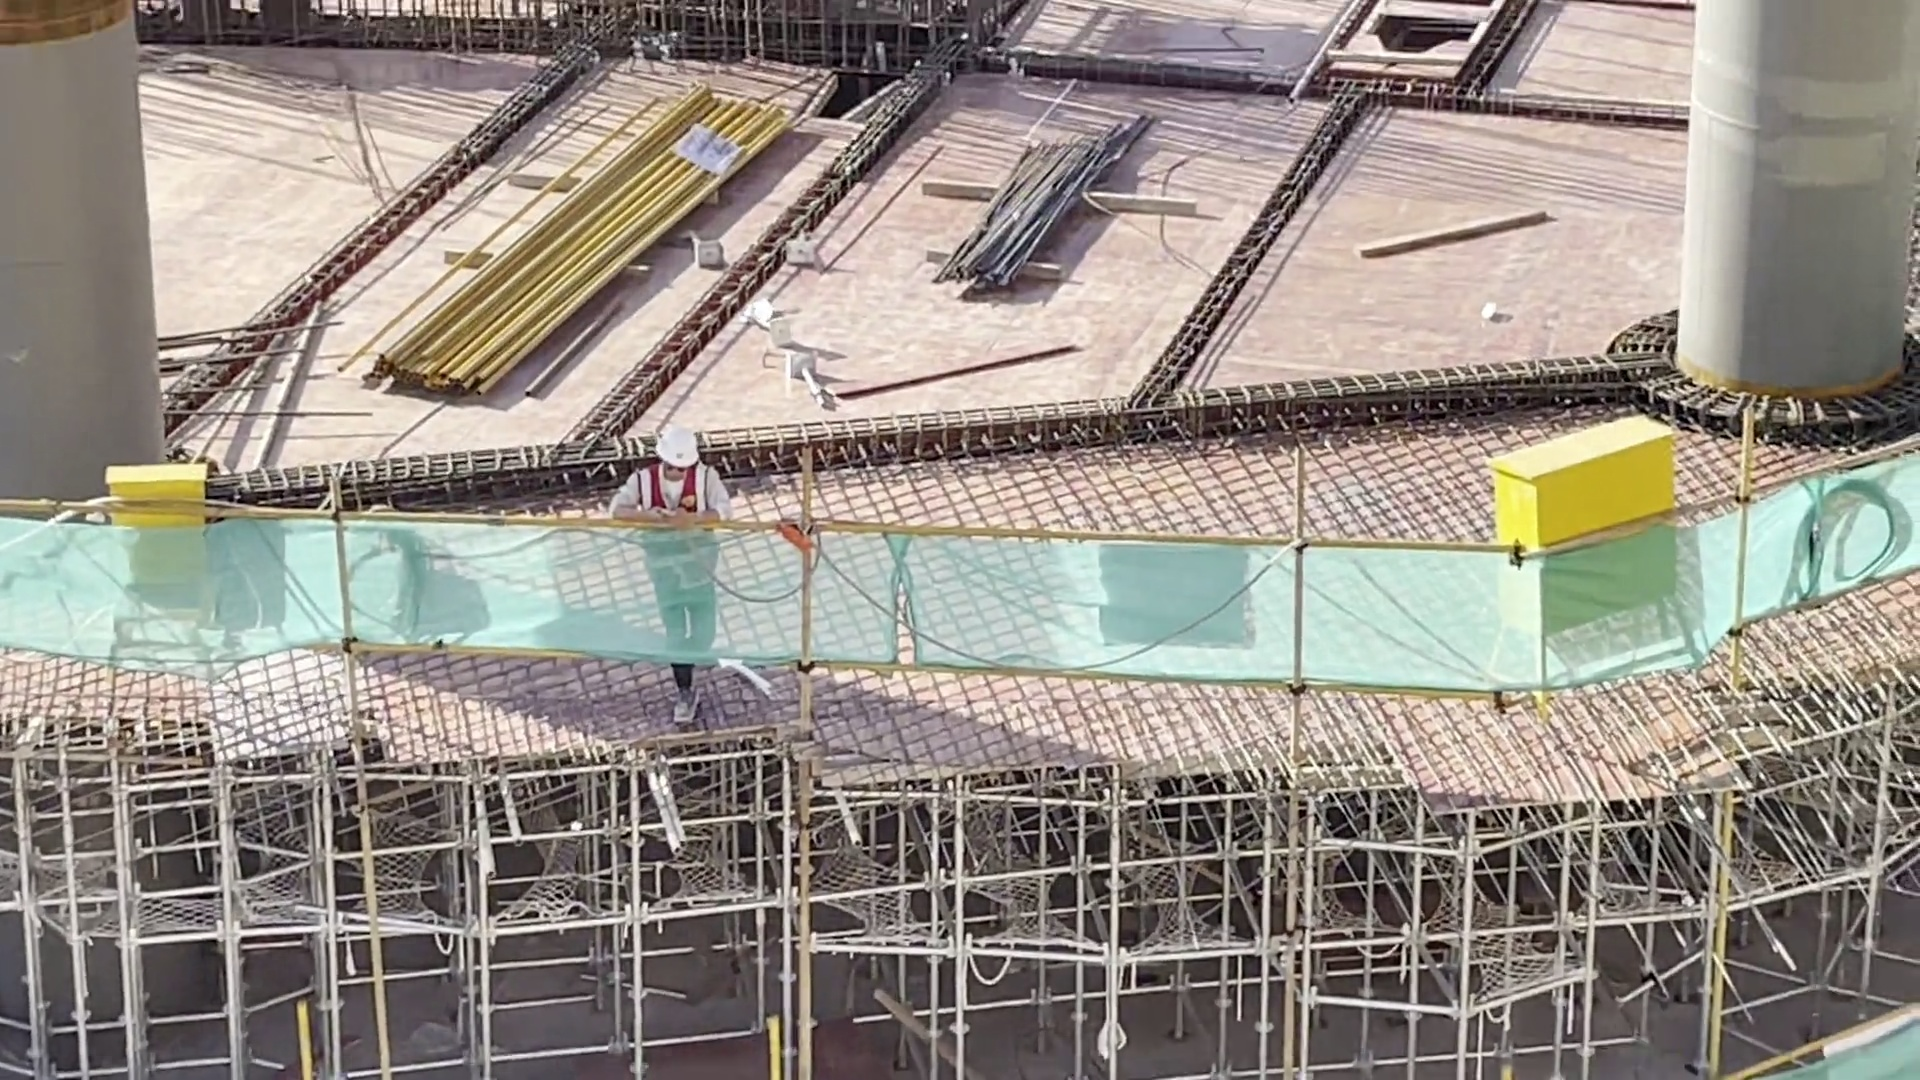ebox: (1491, 405, 1688, 635), (91, 445, 219, 615)
helmet: (652, 419, 707, 474)
person: (629, 420, 730, 717)
vest: (630, 472, 719, 594)
